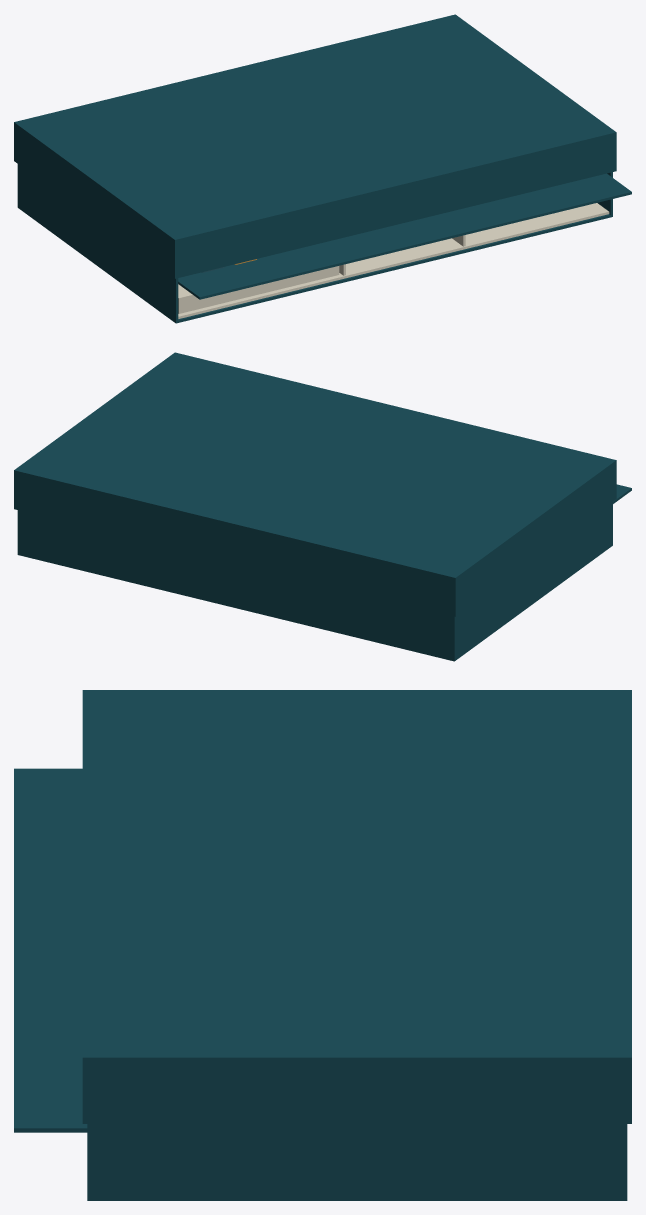
The picture shows the model from 3 angles, top to bottom: view 1: azimuth 30°, elevation 25°; view 2: azimuth 150°, elevation 25°; view 3: azimuth 270°, elevation 25°; orthographic projection. The views are drawn at different scales.
Parts seen in each view (by area): view 1: box-0; view 2: box-0; view 3: box-0.
Part boxes in pixels (box(x1,y1,x2,y2)): box-0: box(14, 14, 631, 323); box-0: box(14, 352, 631, 661); box-0: box(14, 690, 631, 1200).
Size of the model in its own units: 0.38 by 0.07 by 0.27.
